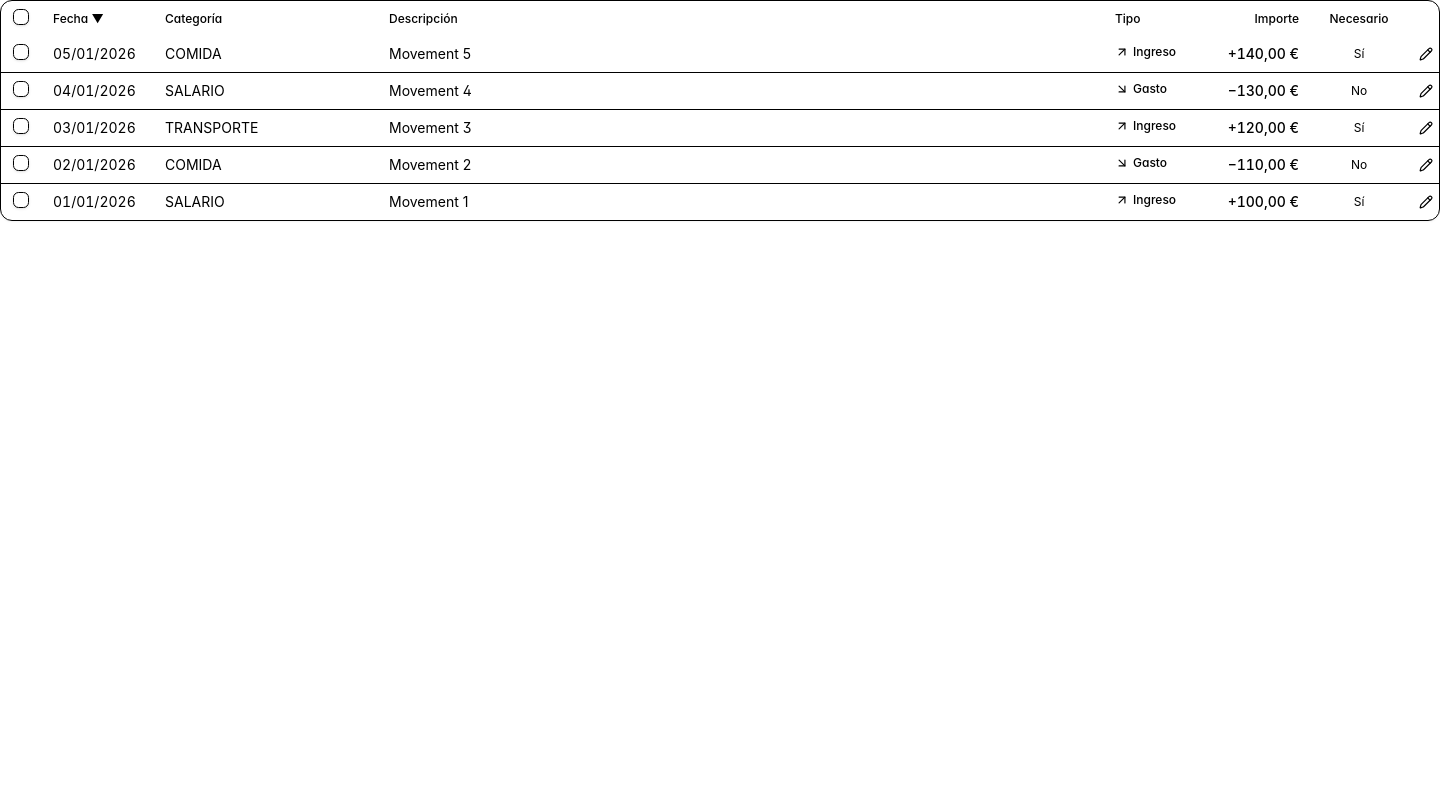
Test: MovementsTable › batch delete › clears selection after successful delete
Select one item
Click the checkbox named "Select Movement 5" at coordinates (21, 52), box [13,44,29,60]
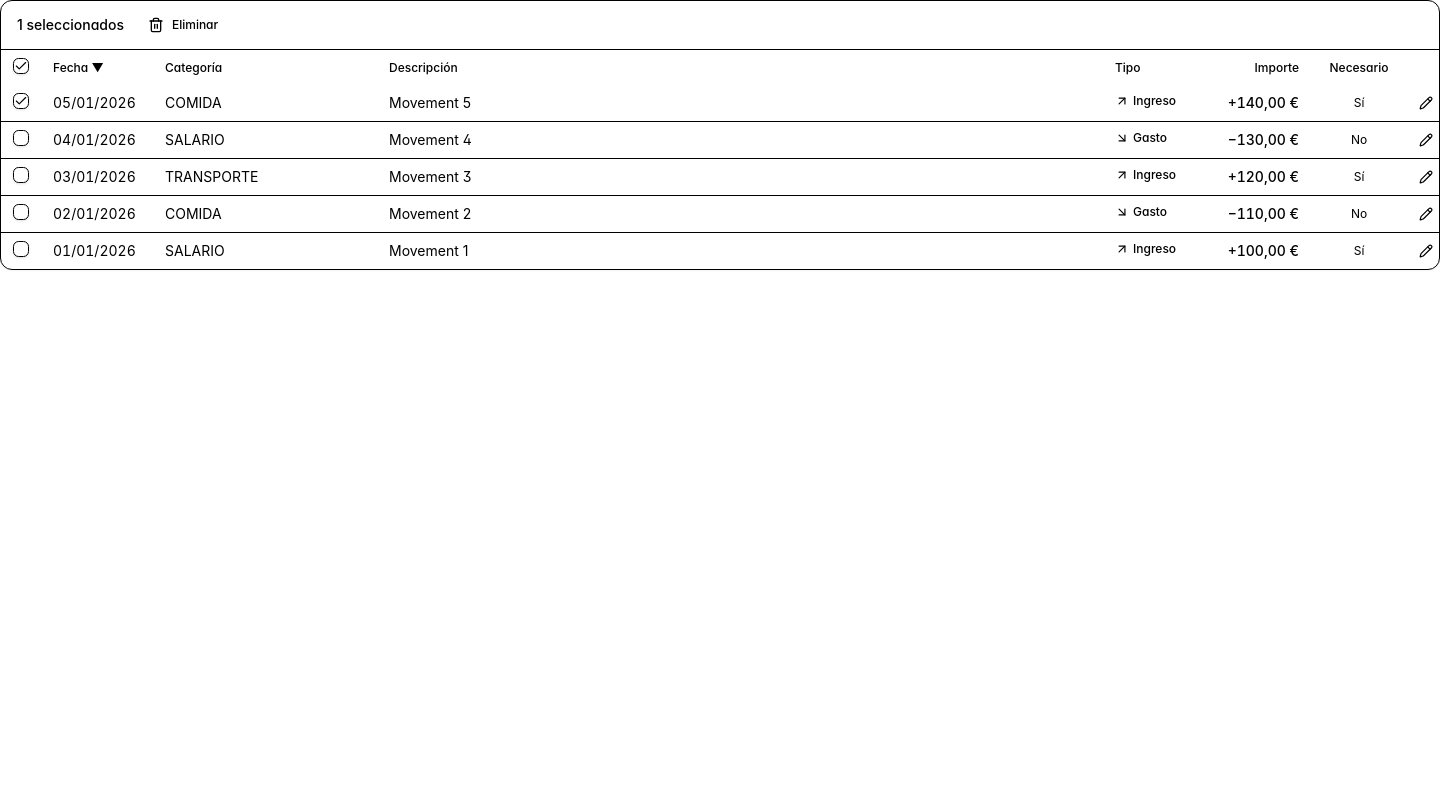
Delete it
Click the button "Eliminar" at coordinates (183, 25), box [136,9,230,41]
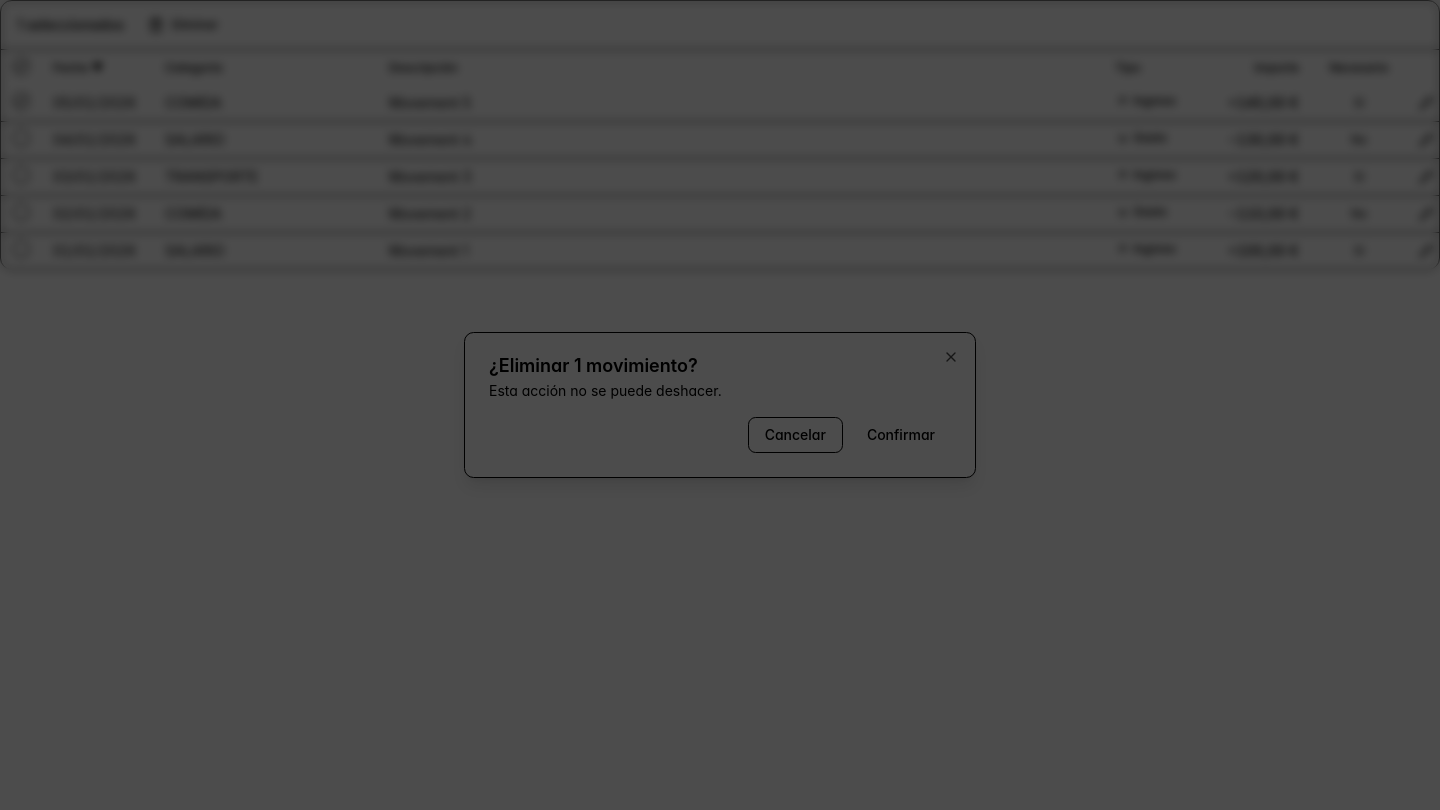
Click the button "Confirmar" at coordinates (901, 435), box [851,417,951,453]
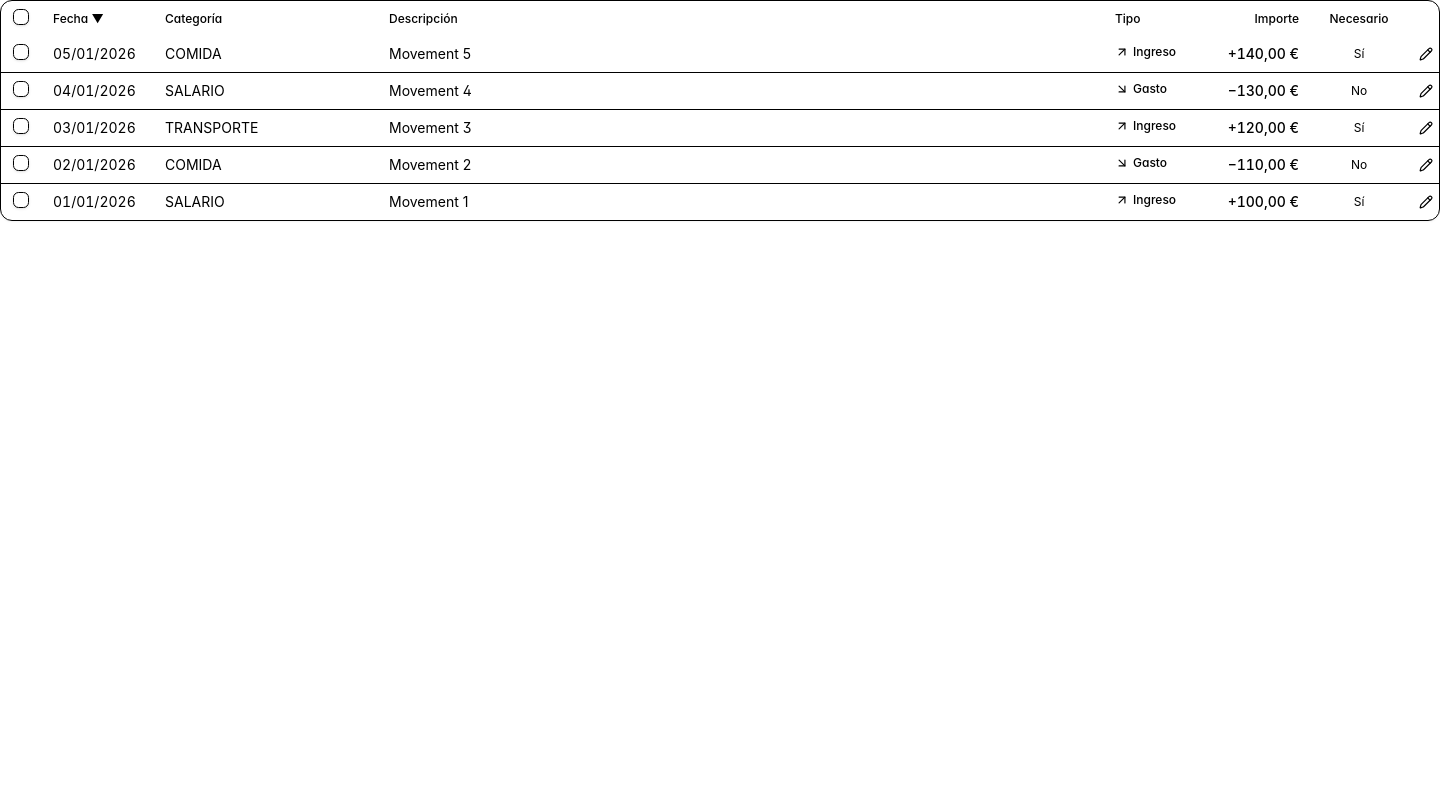
Check: the text "seleccionados" is gone
